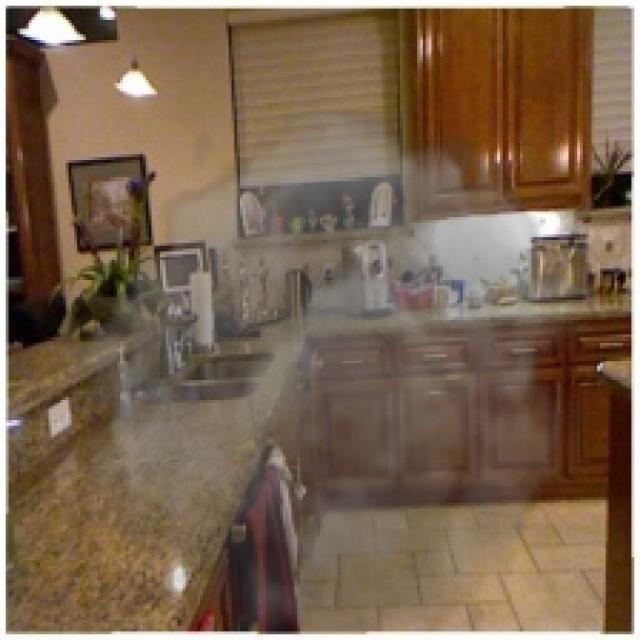Smoke: (54, 111, 603, 632)
